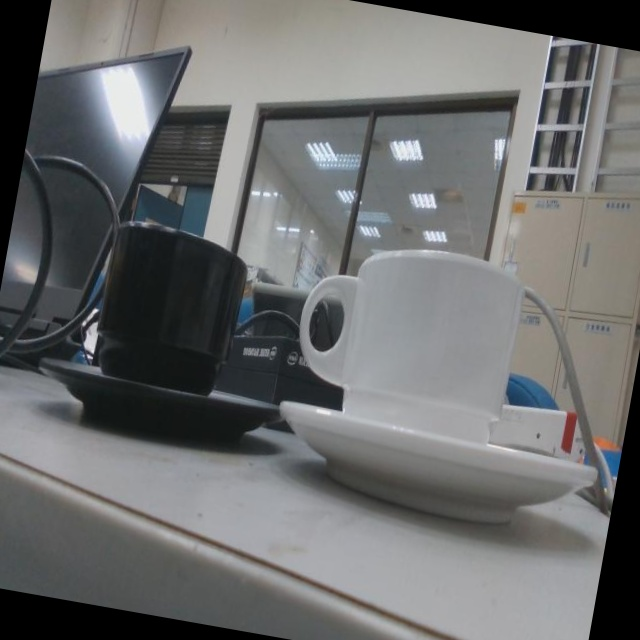black: (44, 222, 297, 443)
white: (284, 247, 613, 522)
